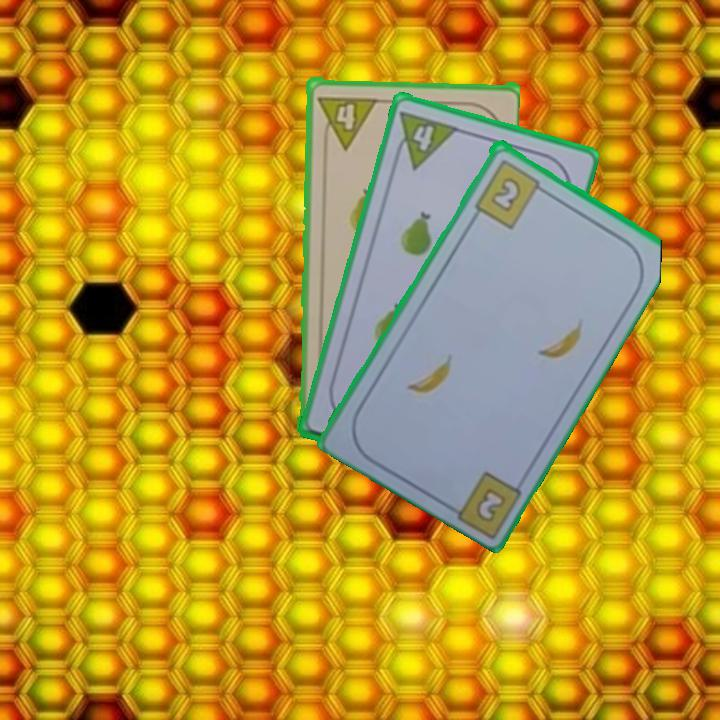2b: (471, 155, 550, 231), (475, 487, 506, 522)
4p: (388, 107, 461, 172), (313, 92, 378, 150)
